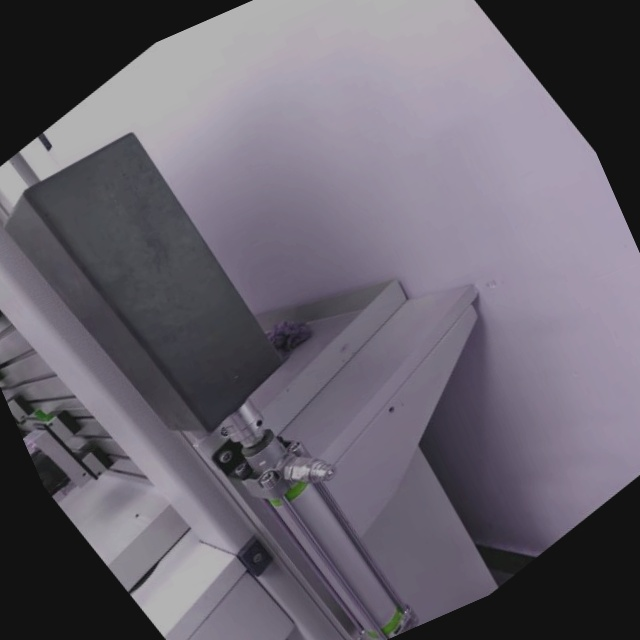load: (0, 28, 505, 640)
